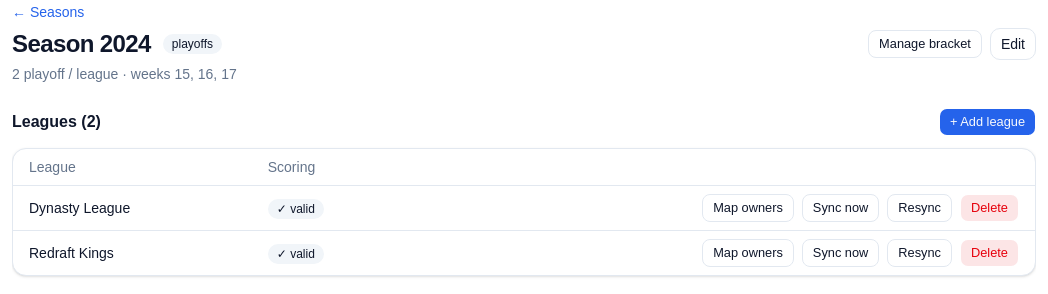
Test: Sync now shows a result note (season is in playoffs)
Step 1. Click the button "Sync now" in the row of "Dynasty League" → [841, 208], box 802,194 -> 879,222
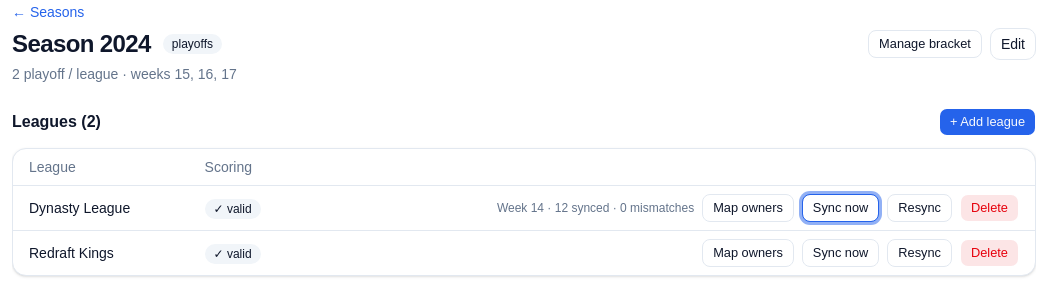
Expected: the text "Week 14 · 12 synced · 0 mismatches" is shown, 497,200 -> 694,216
